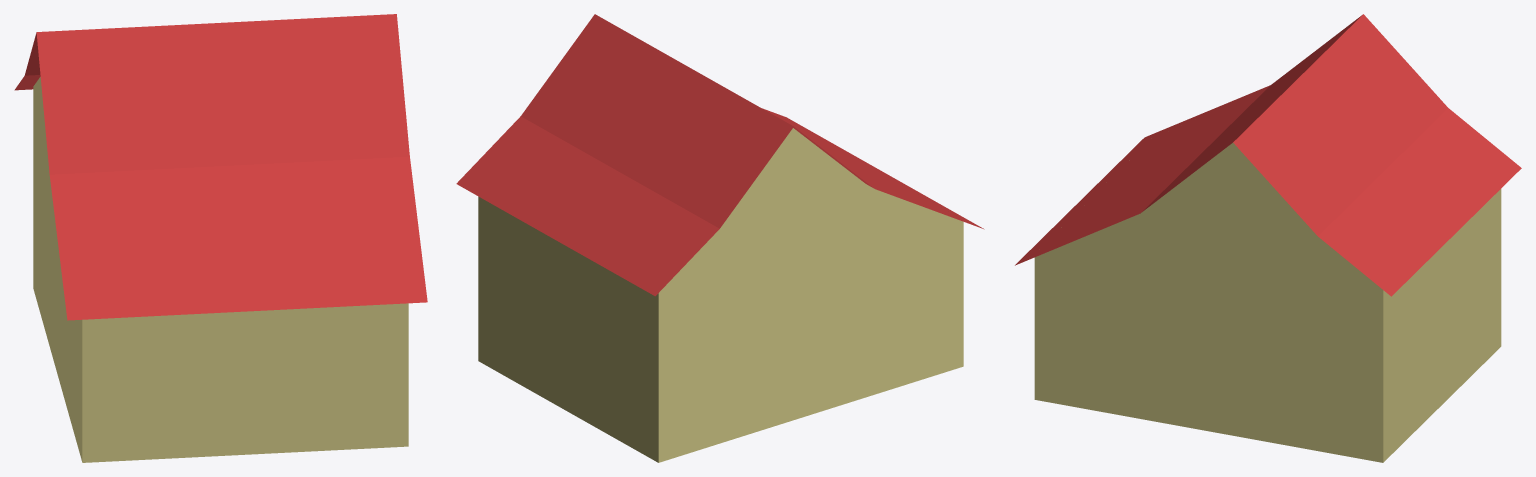
The picture shows the model from 3 angles, left to right: view 1: azimuth 30°, elevation 25°; view 2: azimuth 150°, elevation 25°; view 3: azimuth 270°, elevation 25°; orthographic projection. The views are drawn at different scales.
Bounding box in the file's own units: 22.34 × 24.34 × 15.89.
